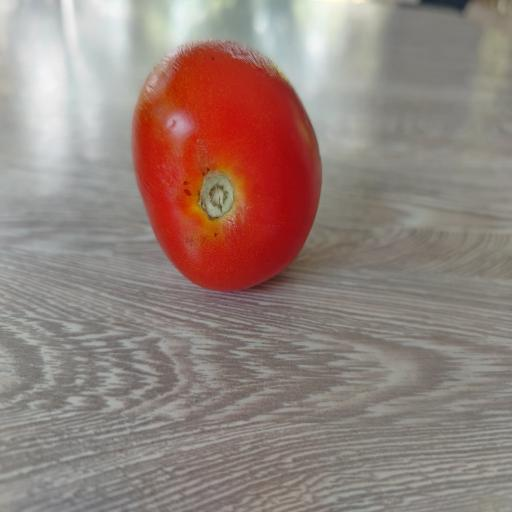spoiled: (132, 41, 321, 291)
